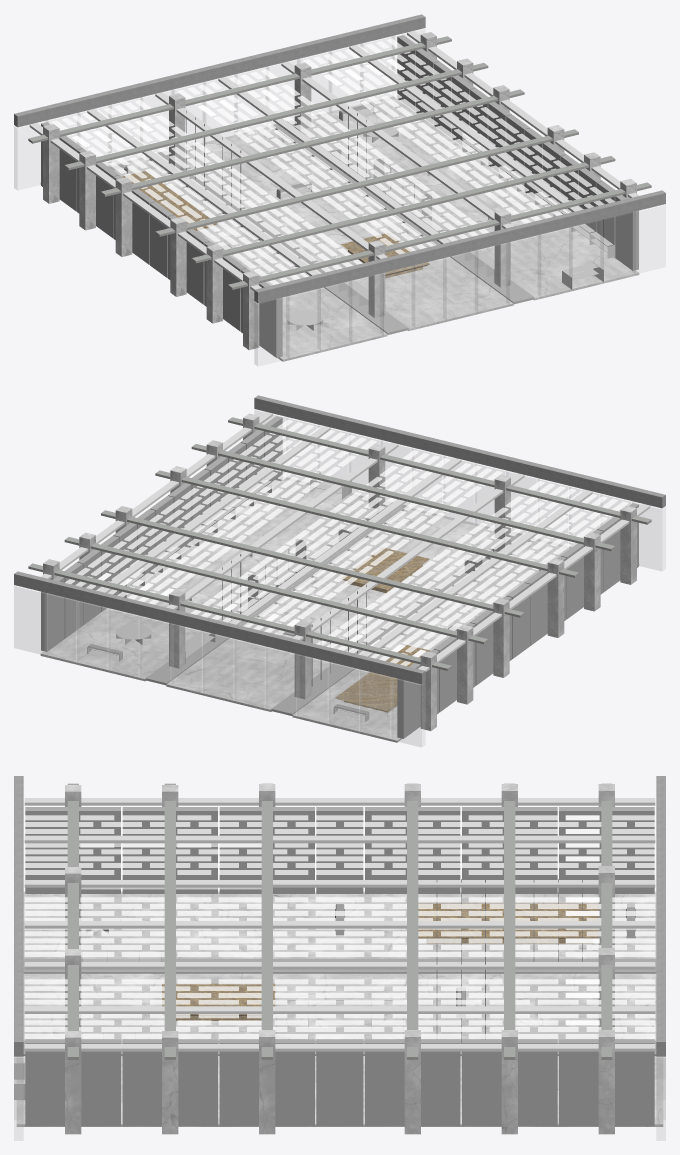
3 views of the same model, one above another, from view 1: azimuth 30°, elevation 25°; view 2: azimuth 150°, elevation 25°; view 3: azimuth 270°, elevation 25° (orthographic). The views are drawn at different scales.
Parts seen in each view (by area): view 1: marb;e matte.003, DIS CAM.001, ISIK.001, GALCANIZED.001, Merged Objects 6.001, Mesh_5.001, Merged Objects 5.001, ZEMIN ONYX.001, Mesh_4.001, TAS MASA.001; view 2: marb;e matte.003, DIS CAM.001, ISIK.001, GALCANIZED.001, Merged Objects 6.001, Mesh_5.001, Merged Objects 5.001, ZEMIN ONYX.001, Mesh_4.001, TAS MASA.001; view 3: GALCANIZED.001, marb;e matte.003, ISIK.001, Merged Objects 5.001, Merged Objects 6.001, TAS MASA.001, Mesh_5.001, Mesh_4.001, ZEMIN ONYX.001, DIS CAM.001, IC CAM.001.
Part boxes in pixels (x1,y1,x2,y2): marb;e matte.003: (40, 32, 639, 361); DIS CAM.001: (14, 29, 665, 365); ISIK.001: (51, 38, 614, 284); GALCANIZED.001: (41, 35, 638, 357); Merged Objects 6.001: (28, 36, 651, 289); Mesh_5.001: (14, 14, 665, 303); Merged Objects 5.001: (29, 31, 639, 290); ZEMIN ONYX.001: (124, 102, 626, 354); Mesh_4.001: (114, 107, 615, 331); TAS MASA.001: (122, 171, 429, 278); marb;e matte.003: (40, 413, 639, 742); DIS CAM.001: (14, 410, 665, 746); ISIK.001: (65, 419, 628, 665); GALCANIZED.001: (41, 416, 638, 738); Merged Objects 6.001: (28, 417, 651, 670); Mesh_5.001: (14, 395, 665, 714); Merged Objects 5.001: (40, 412, 650, 671); ZEMIN ONYX.001: (53, 483, 556, 735); Mesh_4.001: (87, 472, 603, 721); TAS MASA.001: (335, 548, 430, 712); GALCANIZED.001: (23, 807, 656, 1126); marb;e matte.003: (16, 784, 663, 1134); ISIK.001: (24, 815, 655, 1038); Merged Objects 5.001: (24, 798, 655, 1051); Merged Objects 6.001: (67, 783, 612, 1059); TAS MASA.001: (162, 903, 598, 1020); Mesh_5.001: (14, 776, 665, 1056); Mesh_4.001: (14, 843, 635, 1099); ZEMIN ONYX.001: (25, 897, 654, 1118); DIS CAM.001: (14, 1056, 665, 1140); IC CAM.001: (83, 951, 160, 1043).
Bounding box in the file's own units: 40 × 6.95 × 40.32.
11 materials, 3 textured.
